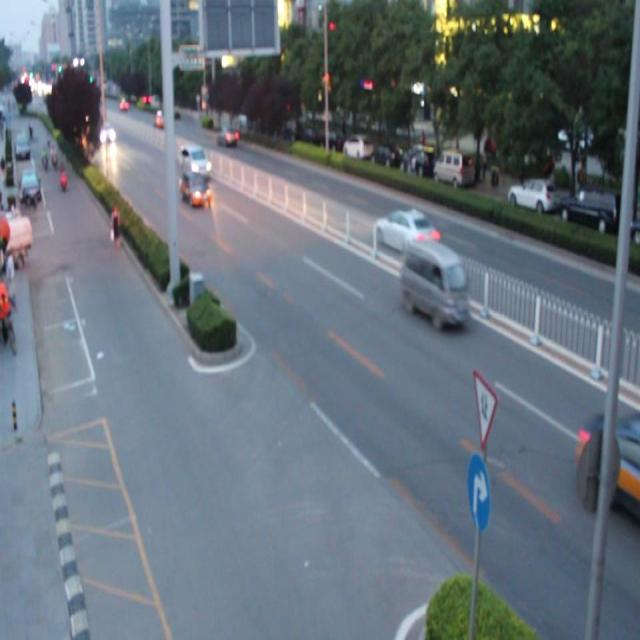car: (576, 404, 640, 515), (372, 206, 437, 256), (178, 143, 209, 178), (181, 171, 212, 205), (215, 123, 236, 144)
truck: (401, 239, 465, 331)
